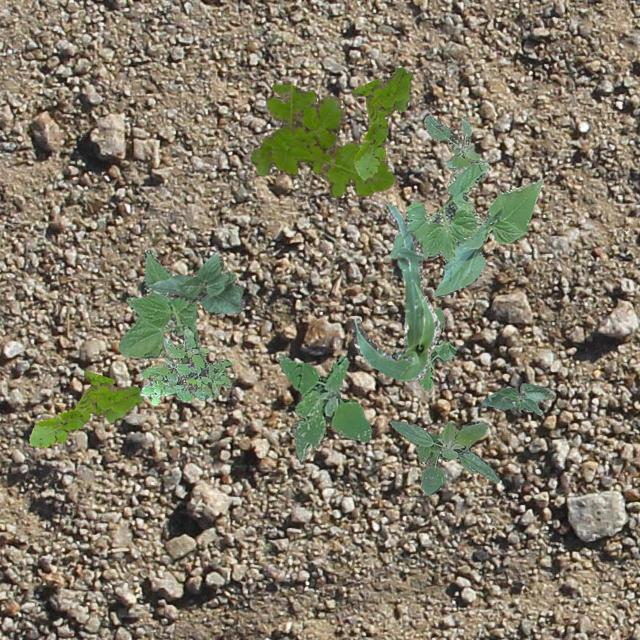crop: (388, 160, 542, 298), (350, 200, 440, 380), (118, 248, 198, 362), (146, 252, 245, 314), (479, 382, 552, 413)
weed: (249, 82, 396, 196), (276, 354, 372, 461), (28, 369, 142, 446), (388, 418, 498, 494), (138, 326, 232, 404), (352, 66, 412, 178), (418, 306, 456, 389), (424, 115, 478, 172)
